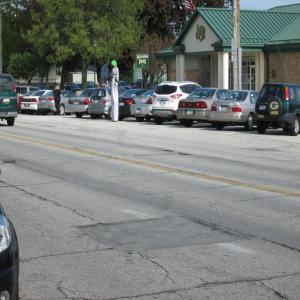Vehicle-registration-plate: (260, 105, 267, 112), (3, 98, 11, 104), (160, 100, 167, 105), (187, 111, 194, 116), (95, 99, 100, 105), (223, 107, 230, 111), (76, 101, 81, 106), (137, 110, 143, 114)
